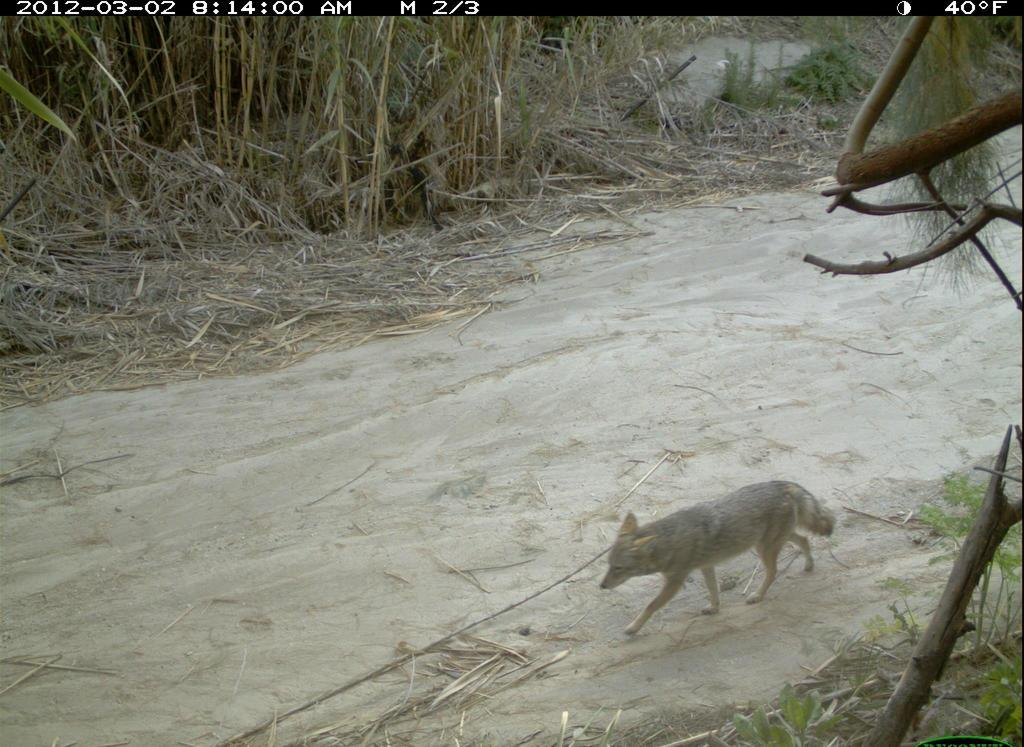coyote: (593, 468, 853, 644)
